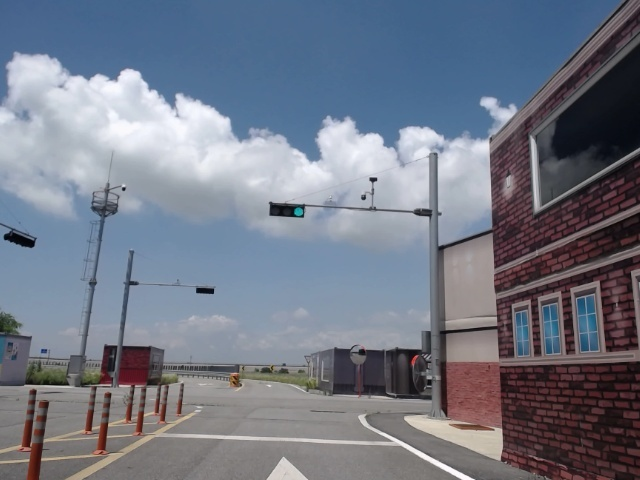green_3: (270, 202, 304, 218)
